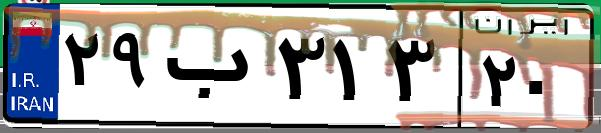0: (525, 38, 570, 115)
1: (330, 28, 385, 110)
2: (57, 26, 110, 100), (475, 38, 525, 113)
3: (270, 28, 330, 110), (385, 28, 445, 110)
9: (110, 28, 158, 98)
ب: (158, 20, 270, 120)
